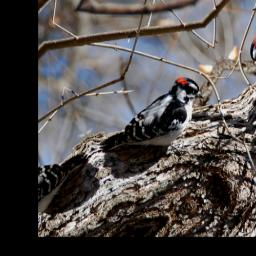Woodpecker: (89, 66, 218, 176)
